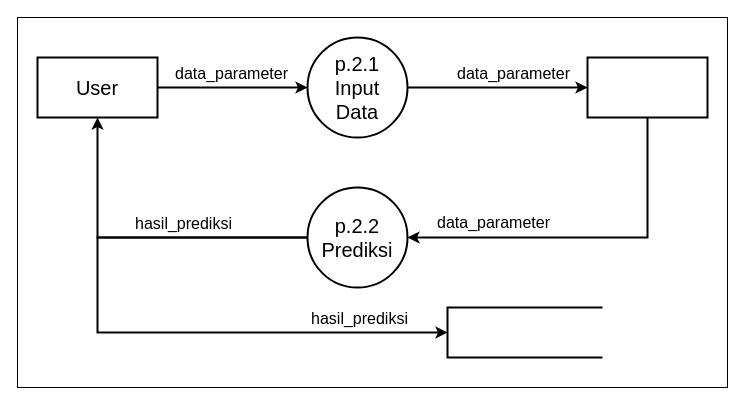
The diagram is 745 pixels wide and 405 high, and some of its shapes have lost their labels. The shapes that lost their labels are listed below. From the top down, each one's centre as x and y in pixels, then its label:
At pixel 647 87: "API Model".
At pixel 524 332: "data_baru".
